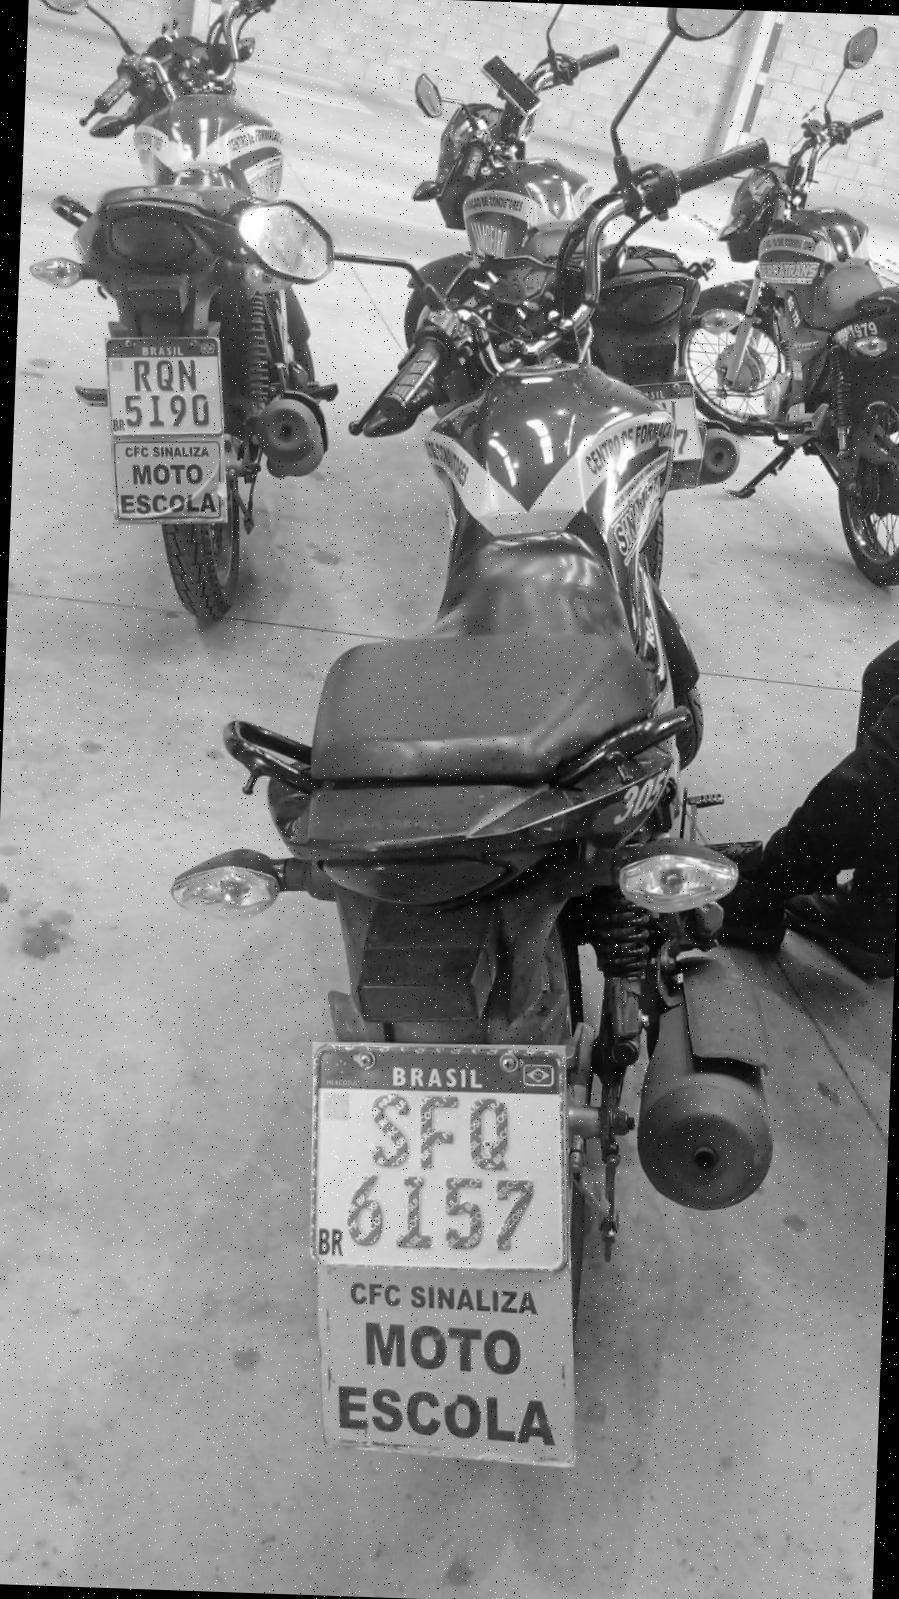placa_mercosul: (306, 1041, 568, 1268), (108, 332, 223, 436)
